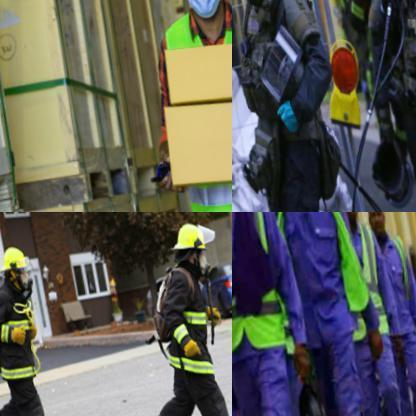vest: (157, 1, 231, 211), (232, 0, 337, 128), (266, 212, 370, 321), (232, 212, 290, 360), (148, 267, 221, 379), (336, 223, 390, 346), (0, 283, 47, 387), (372, 230, 415, 333), (387, 0, 415, 90)
